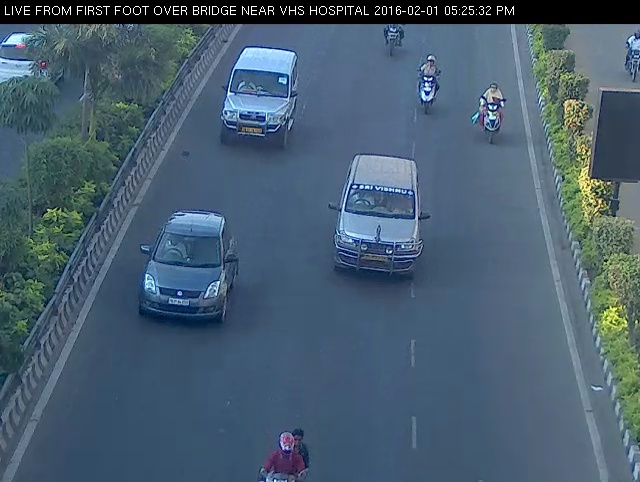Car: (319, 138, 443, 293), (132, 198, 242, 329), (213, 42, 307, 153)
Person: (245, 408, 319, 481), (470, 67, 510, 146), (410, 48, 447, 121), (376, 20, 408, 55)
